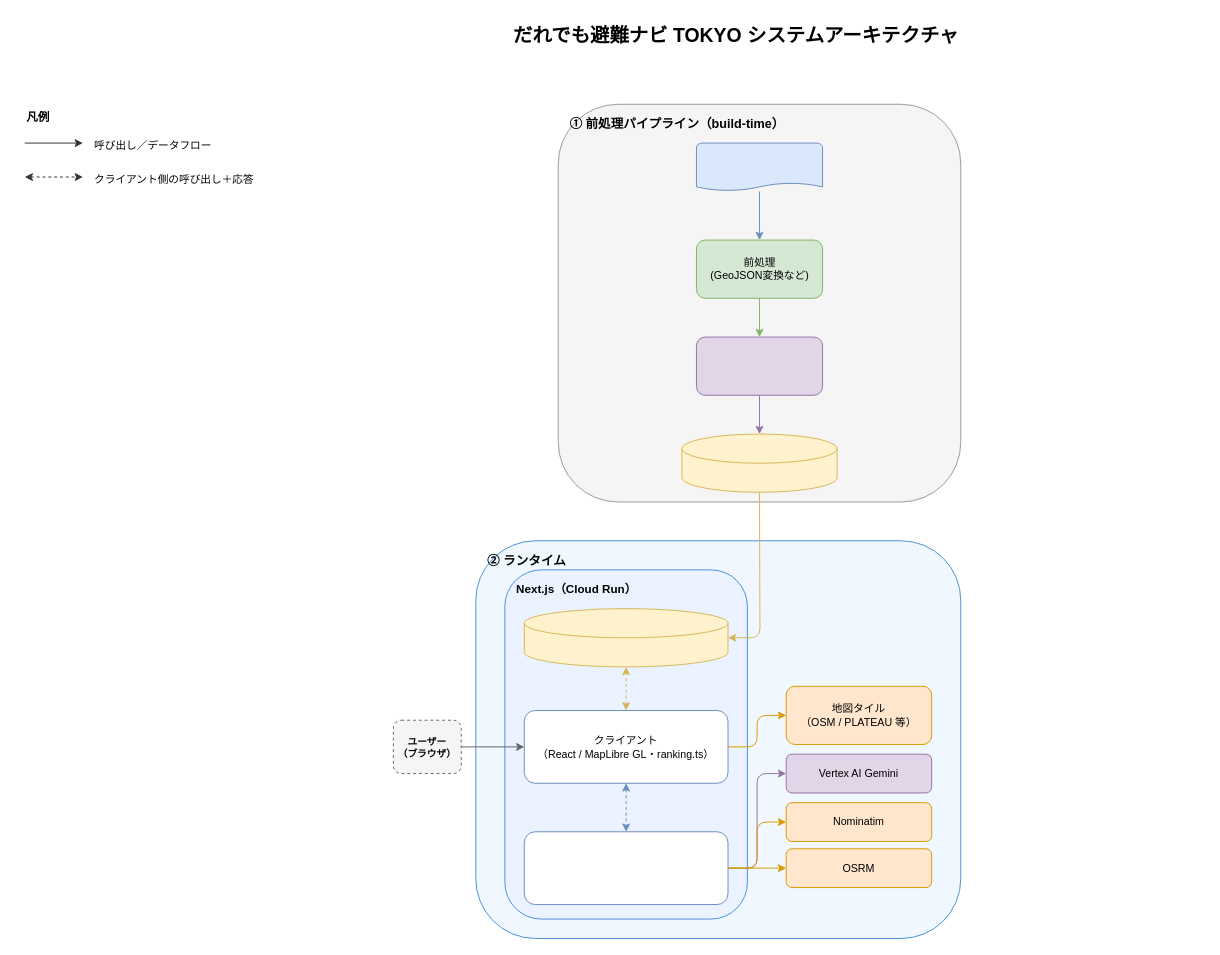
The diagram is 1220 pixels wide and 955 high, and some of its shapes have lost their labels. The centre of each missing label's shape, as x and y in pixels:
"APIルート" goes at point 625,868.
"BigQuery （空間集計など）" goes at point 759,365.
"元データ （CSV / XLSX）" goes at point 759,167.
"前処理済みデータ" goes at point 759,462.
"静的データ （public/data/*.geojson 等）" goes at point 625,637.
